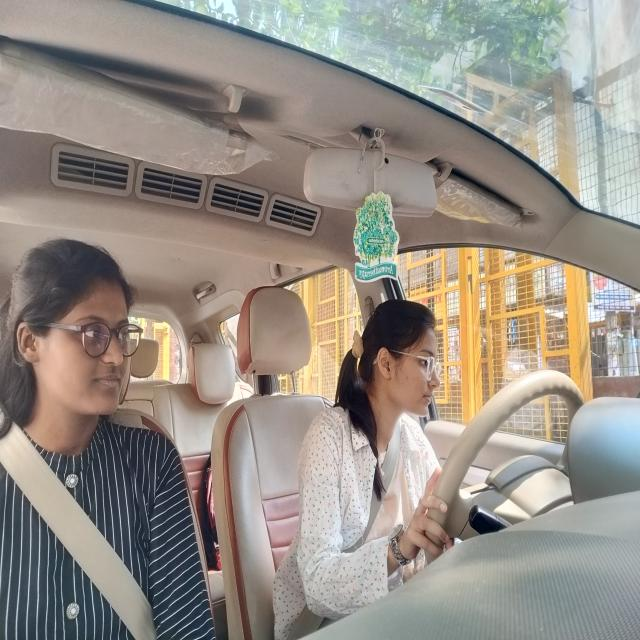LeftRight: (359, 303, 448, 419)
person: (36, 246, 144, 424)
